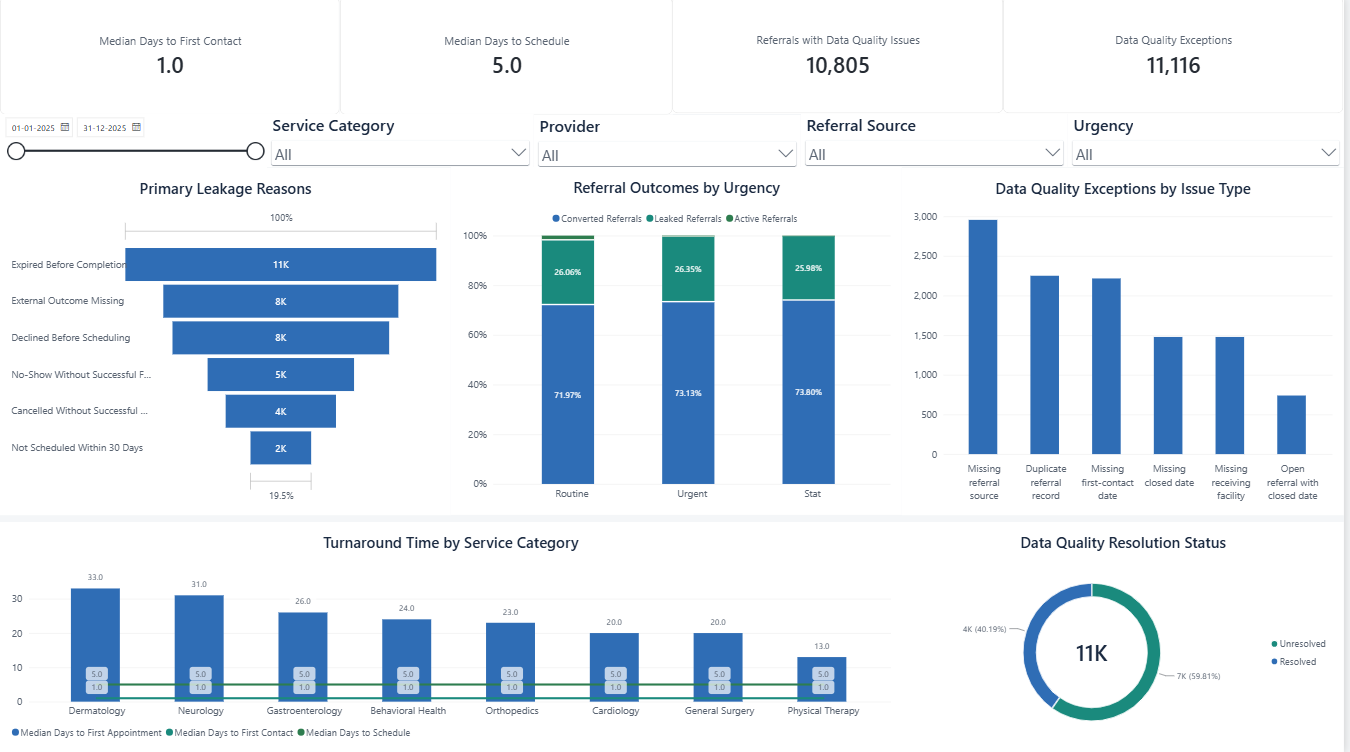

This screenshot's page, from the dashboard's own definition file:
{"tool":"powerbi","page":{"name":"Turnaround Time & Data Quality","canvas":[1920,1080],"ordinal":2},"visuals":[{"type":"cardVisual","fields":{"Data":["Referrals.Median Days to First Contact"]},"box":[0,0,485,168.3],"z":0},{"type":"cardVisual","fields":{"Data":["Referrals.Median Days to Schedule"]},"box":[485,0,475,168.3],"z":1000},{"type":"cardVisual","fields":{"Data":["Referrals.Referrals with Data Quality Issues"]},"box":[960,0,473.3,166.7],"z":2000},{"type":"cardVisual","fields":{"Data":["DataQualityExceptions.Data Quality Exceptions"]},"box":[1433.3,0,486.7,166.7],"z":3000},{"type":"slicer","title":"Facilities Name","fields":{"Values":["Date.date"]},"box":[0,167.1,381.4,75.7],"z":4000},{"type":"slicer","title":"Facilities Name","fields":{"Values":["ServiceCategories.service_category_name"]},"box":[381.4,167.1,381.4,75.7],"z":4001},{"type":"slicer","title":"Facilities Name","fields":{"Values":["Referrals.urgency"]},"box":[1525.7,167.1,394.3,75.7],"z":4002},{"type":"slicer","title":"Facilities Name","fields":{"Values":["Providers.provider_name"]},"box":[762.9,168.6,381.4,75.7],"z":4003},{"type":"slicer","title":"Facilities Name","fields":{"Values":["Referrals.referral_source"]},"box":[1144.3,167.1,381.4,75.7],"z":4004},{"type":"funnel","title":"Primary Leakage Reasons","fields":{"Category":["Referrals.primary_leakage_reason"],"Y":["Referrals.Leaked Referrals"]},"box":[0,244.3,644.3,495.7],"z":4006},{"type":"hundredPercentStackedColumnChart","title":"Referral Outcomes by Urgency","fields":{"Category":["Referrals.urgency"],"Y":["Referrals.Converted Referrals","Referrals.Leaked Referrals","Referrals.Active Referrals"]},"box":[644.3,242.9,644.3,497.1],"z":4007},{"type":"clusteredColumnChart","title":"Data Quality Exceptions by Issue Type","fields":{"Category":["DataQualityExceptions.issue_label"],"Y":["DataQualityExceptions.Data Quality Exceptions"]},"box":[1288.6,244.3,631.4,495.7],"z":4008},{"type":"lineClusteredColumnComboChart","title":"Turnaround Time by Service Category","fields":{"Category":["ServiceCategories.service_category_name"],"Y":["Referrals.Median Days to First Appointment"],"Y2":["Referrals.Median Days to First Contact","Referrals.Median Days to Schedule"]},"box":[0,750,1288.6,330],"z":4009},{"type":"donutChart","title":"Data Quality Resolution Status","fields":{"Category":["DataQualityExceptions.resolution_status"],"Y":["DataQualityExceptions.Data Quality Exceptions"]},"box":[1288.6,750,631.4,330],"z":4010}]}

Visuals, with their boxes in screenshot pixels (x1, y1, x2, y2), scaled from the page's 1920x1080 canvas onto the 1350x752 screenshot:
cardVisual - Referrals.Median Days to First Contact: 0 0 341 117
cardVisual - Referrals.Median Days to Schedule: 341 0 675 117
cardVisual - Referrals.Referrals with Data Quality Issues: 675 0 1008 116
cardVisual - DataQualityExceptions.Data Quality Exceptions: 1008 0 1349 116
"Facilities Name" slicer: 0 116 268 169
"Facilities Name" slicer: 268 116 536 169
"Facilities Name" slicer: 1073 116 1349 169
"Facilities Name" slicer: 536 117 805 170
"Facilities Name" slicer: 805 116 1073 169
"Primary Leakage Reasons" funnel: 0 170 453 515
"Referral Outcomes by Urgency" hundredPercentStackedColumnChart: 453 169 906 515
"Data Quality Exceptions by Issue Type" clusteredColumnChart: 906 170 1349 515
"Turnaround Time by Service Category" lineClusteredColumnComboChart: 0 522 906 751
"Data Quality Resolution Status" donutChart: 906 522 1349 751
